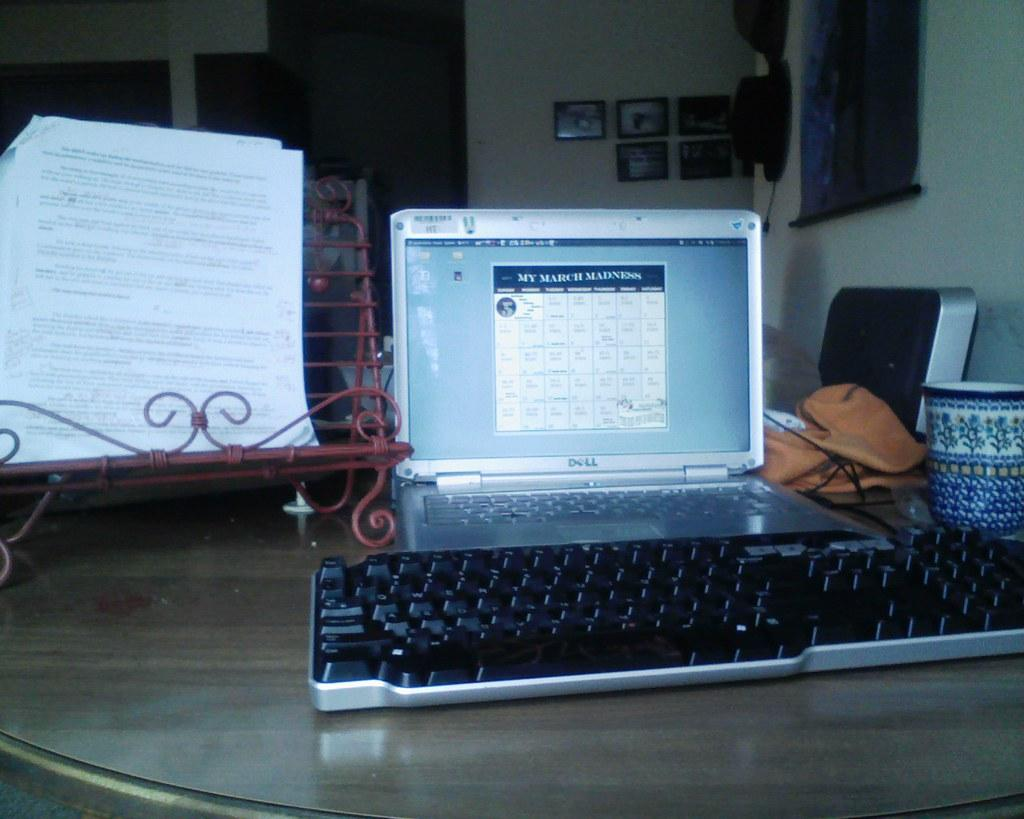computer: (308, 206, 1023, 712), (387, 206, 877, 551)
